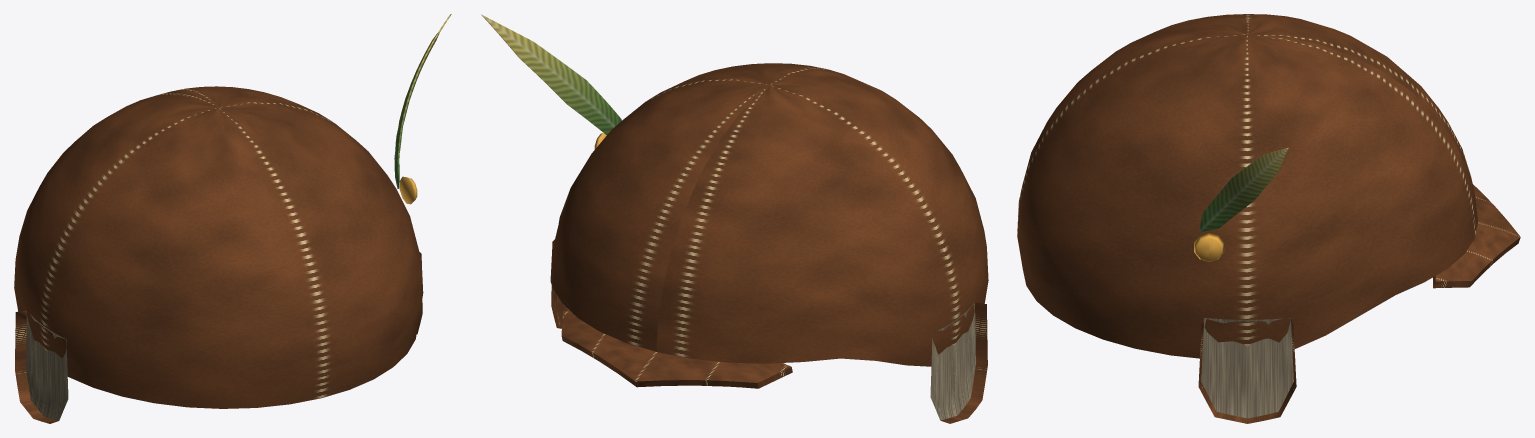
Rendered from ScoutsCap.glb.
The picture shows the model from 3 angles, left to right: view 1: azimuth 30°, elevation 25°; view 2: azimuth 150°, elevation 25°; view 3: azimuth 270°, elevation 25°; orthographic projection. The views are drawn at different scales.
Parts seen in each view (by area): view 1: ScoutsCap; view 2: ScoutsCap; view 3: ScoutsCap.
Boxes of the visible parts, x1,y1,x2,y2 form: ScoutsCap: [14, 14, 451, 423]; ScoutsCap: [481, 14, 988, 423]; ScoutsCap: [1017, 14, 1520, 423].
Bounding box in the file's own units: 1.73 × 1.07 × 1.57.
1 material, 1 textured.
